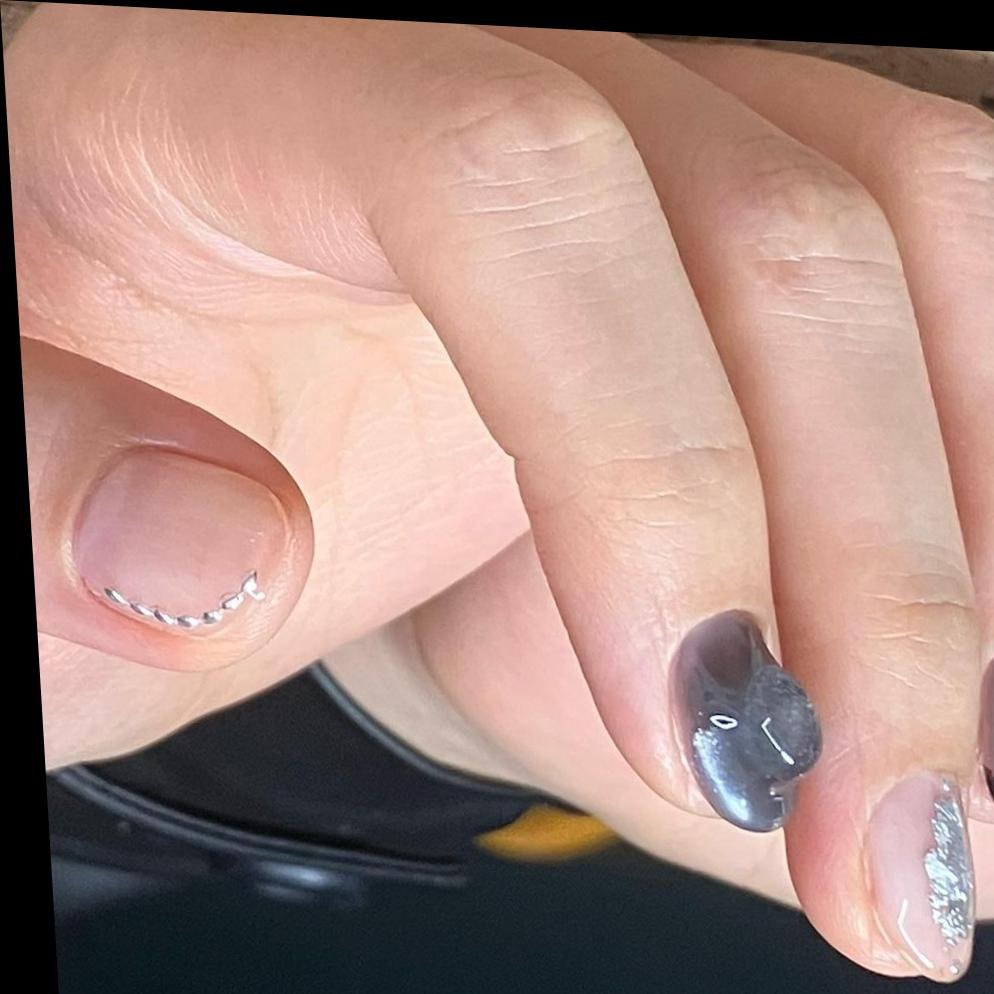nail: (663, 607, 830, 839), (861, 767, 984, 987), (970, 624, 994, 835)
